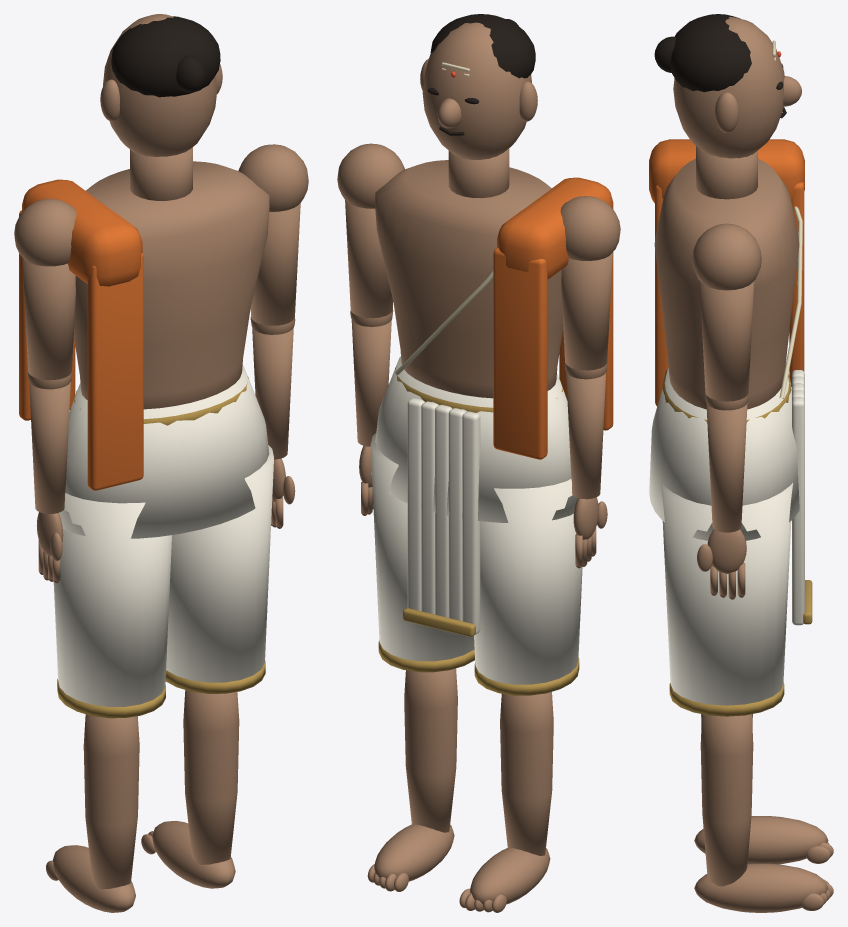
Rendered from devotee_player.glb.
3 renders of one model, left to right at view 1: azimuth 30°, elevation 25°; view 2: azimuth 150°, elevation 25°; view 3: azimuth 270°, elevation 25°, orthographic. The views are drawn at different scales.
Visible parts, largest first — view 1: Torso, DhotiLeg_L, DhotiWaist, DhotiLeg_R, ShawlBack, Calf_R, Calf_L, Head, HairCap, ShoulderShawl, UpperArmMesh_L, ForearmMesh_L (+14 smaller); view 2: Torso, DhotiLeg_L, ShawlFront, DhotiWaist, Head, DhotiLeg_R, Calf_L, Calf_R, UpperArmMesh_L, ShoulderShawl, ForearmMesh_L, UpperArmMesh_R (+21 smaller); view 3: DhotiLeg_R, Torso, DhotiWaist, Calf_R, Head, UpperArmMesh_R, HairCap, Foot_R, ForearmMesh_R, Shoulder_R, ShoulderShawl, Foot_L (+12 smaller).
Boxes of the visible parts, <box> form: Torso: <box>73,161,269,409</box>; DhotiLeg_L: <box>53,493,171,706</box>; DhotiWaist: <box>59,365,272,538</box>; DhotiLeg_R: <box>166,445,273,682</box>; ShawlBack: <box>87,253,143,490</box>; Calf_R: <box>183,690,239,864</box>; Calf_L: <box>83,714,139,889</box>; Head: <box>103,14,217,156</box>; HairCap: <box>111,16,220,97</box>; ShoulderShawl: <box>22,179,142,286</box>; UpperArmMesh_L: <box>22,257,75,380</box>; ForearmMesh_L: <box>29,382,70,513</box>; Torso: <box>375,160,563,398</box>; DhotiLeg_L: <box>474,479,582,684</box>; ShawlFront: <box>493,247,547,459</box>; DhotiWaist: <box>371,356,577,522</box>; Head: <box>422,22,531,159</box>; DhotiLeg_R: <box>370,433,474,661</box>; Calf_L: <box>500,692,553,855</box>; Calf_R: <box>404,668,457,832</box>; UpperArmMesh_L: <box>561,253,612,370</box>; ShoulderShawl: <box>497,177,613,279</box>; ForearmMesh_L: <box>566,372,606,499</box>; UpperArmMesh_R: <box>345,200,393,318</box>; DhotiLeg_R: <box>661,483,792,705</box>; Torso: <box>654,158,799,409</box>; DhotiWaist: <box>649,368,799,540</box>; Calf_R: <box>700,714,753,886</box>; Head: <box>673,17,784,158</box>; UpperArmMesh_R: <box>699,281,754,401</box>; HairCap: <box>670,14,751,92</box>; Foot_R: <box>694,863,828,912</box>; ForearmMesh_R: <box>706,402,747,532</box>; Shoulder_R: <box>692,223,761,290</box>; ShoulderShawl: <box>649,139,804,203</box>; Foot_L: <box>694,816,828,864</box>.
Bounding box in the file's own units: 0.602 × 1.78 × 0.344.
